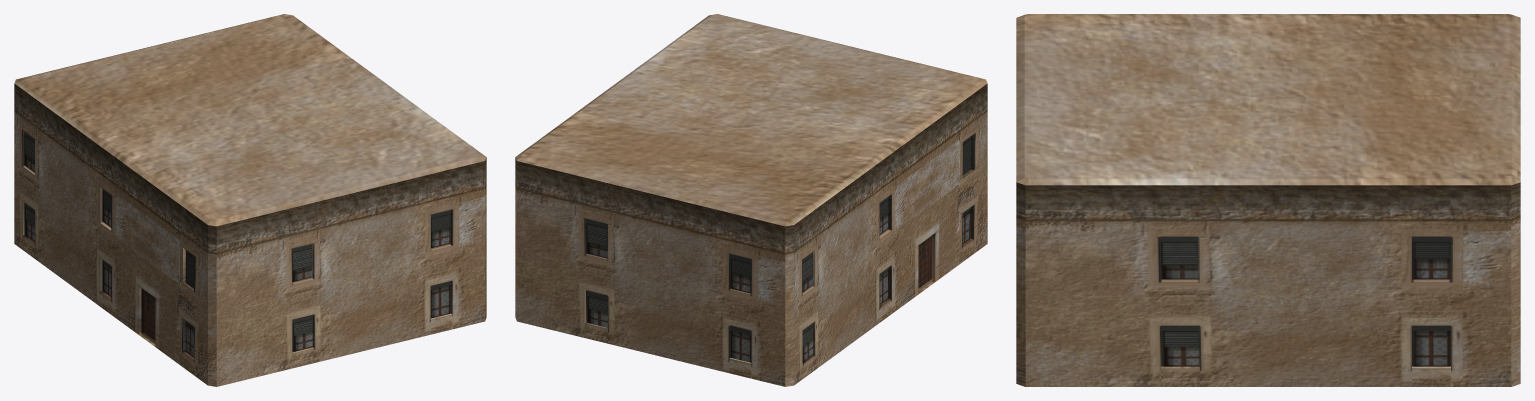
File: Casa_5.fbx
3 renders of one model, left to right at view 1: azimuth 30°, elevation 25°; view 2: azimuth 150°, elevation 25°; view 3: azimuth 270°, elevation 25°, orthographic. The views are drawn at different scales.
Parts seen in each view (by area): view 1: Casa; view 2: Casa; view 3: Casa.
Part boxes in pixels (x1,y1,x2,y2): Casa: (14, 14, 486, 386); Casa: (515, 14, 987, 386); Casa: (1016, 14, 1520, 386).
Size of the model in its own units: 10.9 by 13.6 by 6.1.
1 material, 1 textured.
